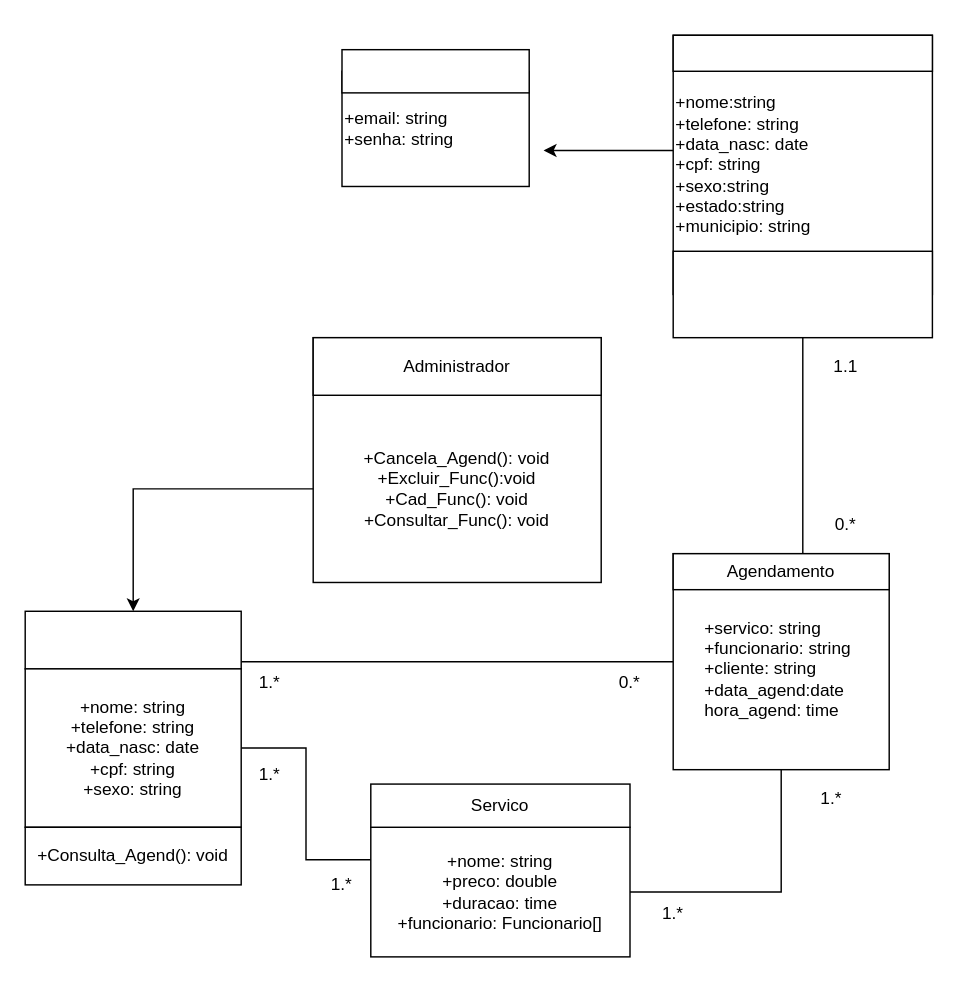
Some shapes in this 958 by 982 pixel diagram are drawn without their labels. The box of each missing label's shape, as (x1, y1, x2, y2) in pixels:
+Cadastrar(): void +Agendar(): void +Login() :void: (672, 250, 932, 338)
Cliente: (672, 34, 932, 71)
Funcionário: (24, 610, 241, 669)
Usuário: (341, 48, 529, 93)
